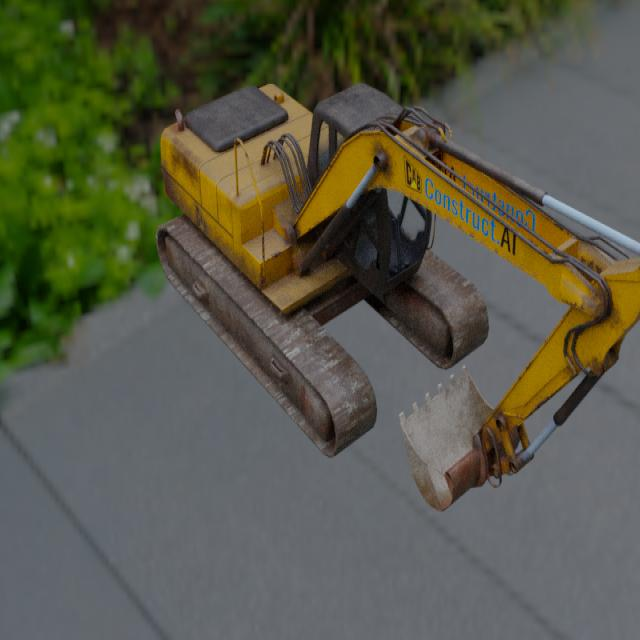excavator: (156, 81, 640, 512)
